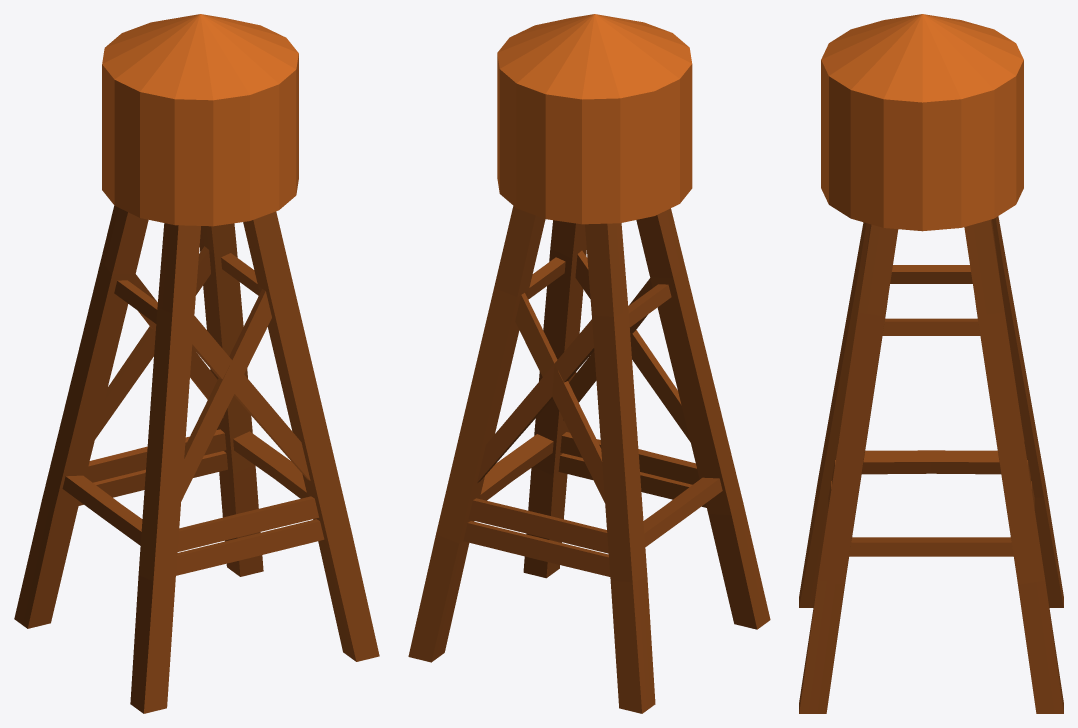
The model's file is Citerne.glb.
The picture shows the model from 3 angles, left to right: view 1: azimuth 30°, elevation 25°; view 2: azimuth 150°, elevation 25°; view 3: azimuth 270°, elevation 25°; orthographic projection. The views are drawn at different scales.
Visible parts, largest first — view 1: Cube, Cylinder; view 2: Cube, Cylinder; view 3: Cube, Cylinder.
Part boxes in pixels (x1,y1,x2,y2): Cube: (14,205,379,713); Cylinder: (102,14,298,226); Cube: (408,206,770,713); Cylinder: (497,14,692,224); Cube: (799,216,1063,713); Cylinder: (821,14,1023,231).
Bounding box in the file's own units: 3.87 × 9.84 × 3.68.
Materials: 1 (1 with a texture image).
